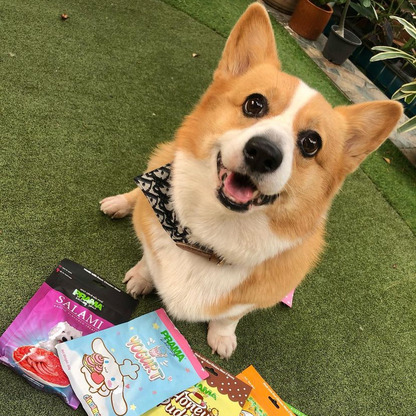Corgi: (147, 8, 364, 365)
